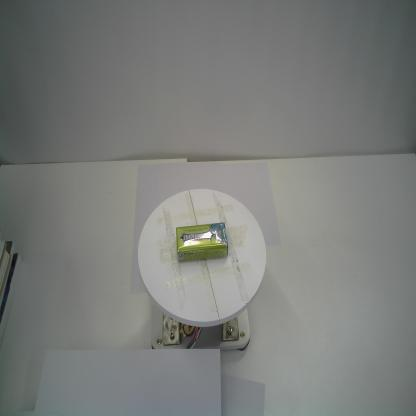Gum: (175, 221, 229, 264)
